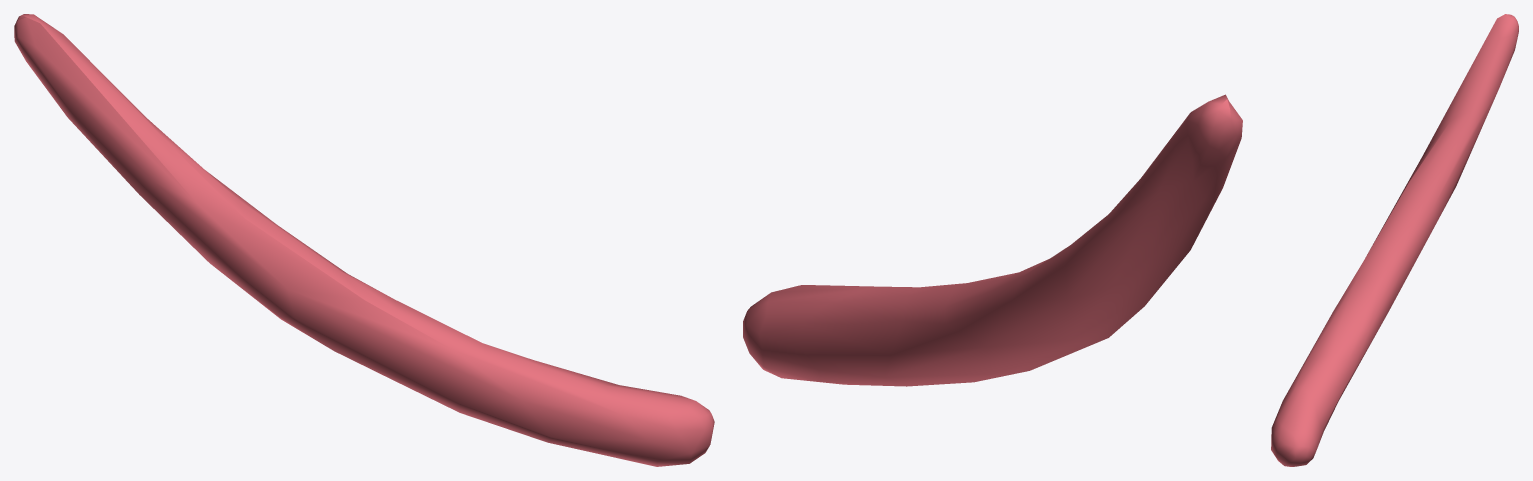
Rendered from fma8664_fj6105.glb.
3 renders of one model, left to right at view 1: azimuth 30°, elevation 25°; view 2: azimuth 150°, elevation 25°; view 3: azimuth 270°, elevation 25°, orthographic. The views are drawn at different scales.
Visible parts, largest first — view 1: FMA8664_FJ6105; view 2: FMA8664_FJ6105; view 3: FMA8664_FJ6105.
Boxes of the visible parts, x1,y1,x2,y2 form: FMA8664_FJ6105: [14, 14, 714, 466]; FMA8664_FJ6105: [743, 94, 1242, 386]; FMA8664_FJ6105: [1271, 14, 1518, 466].
Bounding box in the file's own units: 0.029 × 0.0232 × 0.0177.
